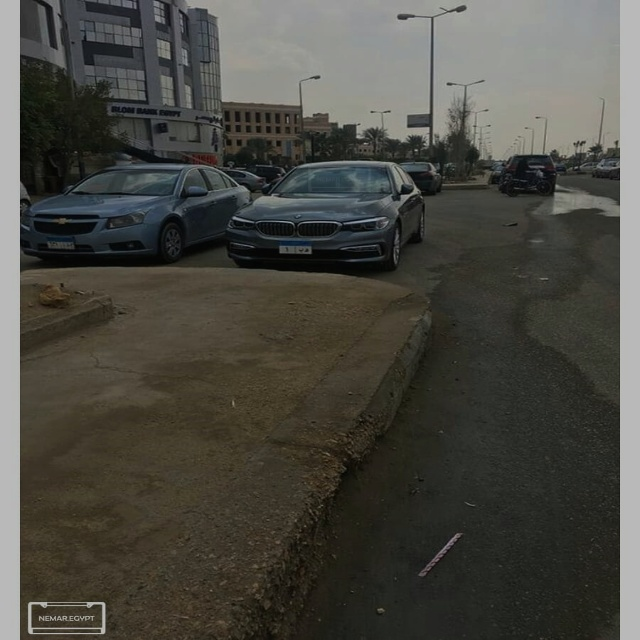License Plate: (43, 234, 78, 251), (277, 239, 314, 255)
